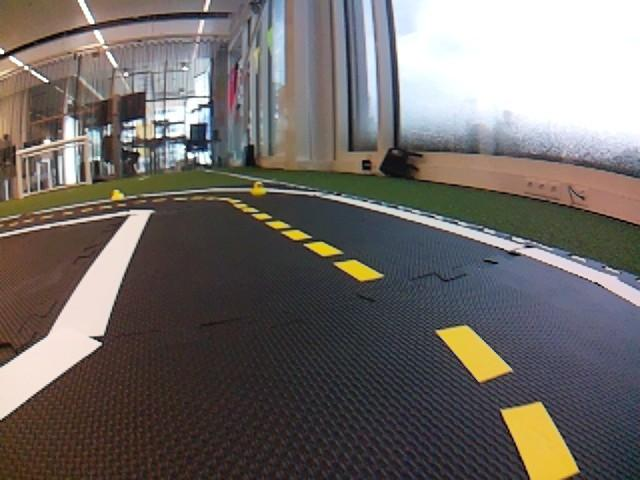Duckies: (248, 181, 268, 197), (110, 188, 125, 202)
